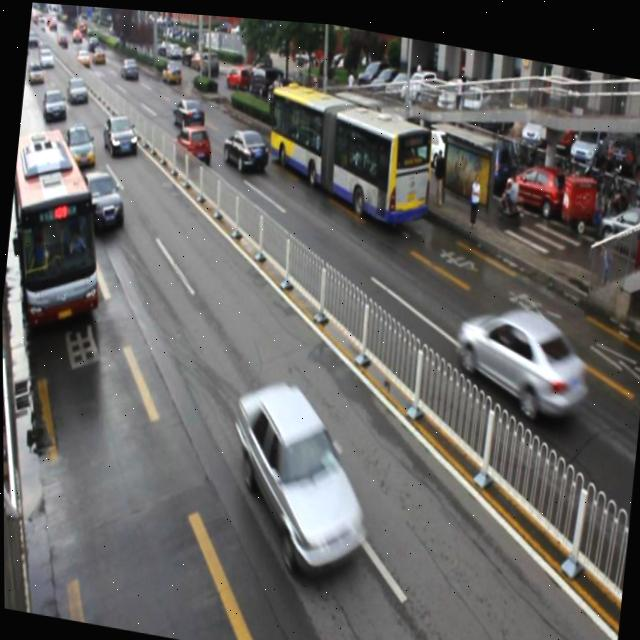car: (220, 370, 379, 577), (450, 289, 594, 415), (80, 164, 127, 228), (221, 123, 267, 167), (173, 116, 213, 163), (101, 108, 140, 156), (64, 124, 96, 167), (171, 93, 205, 129)
van: (259, 73, 437, 226), (1, 123, 113, 333)
